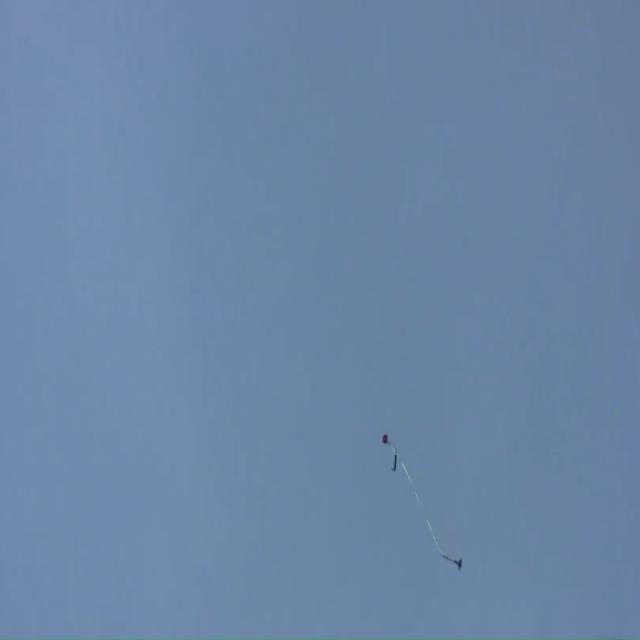Rocket: (440, 551, 462, 571)
